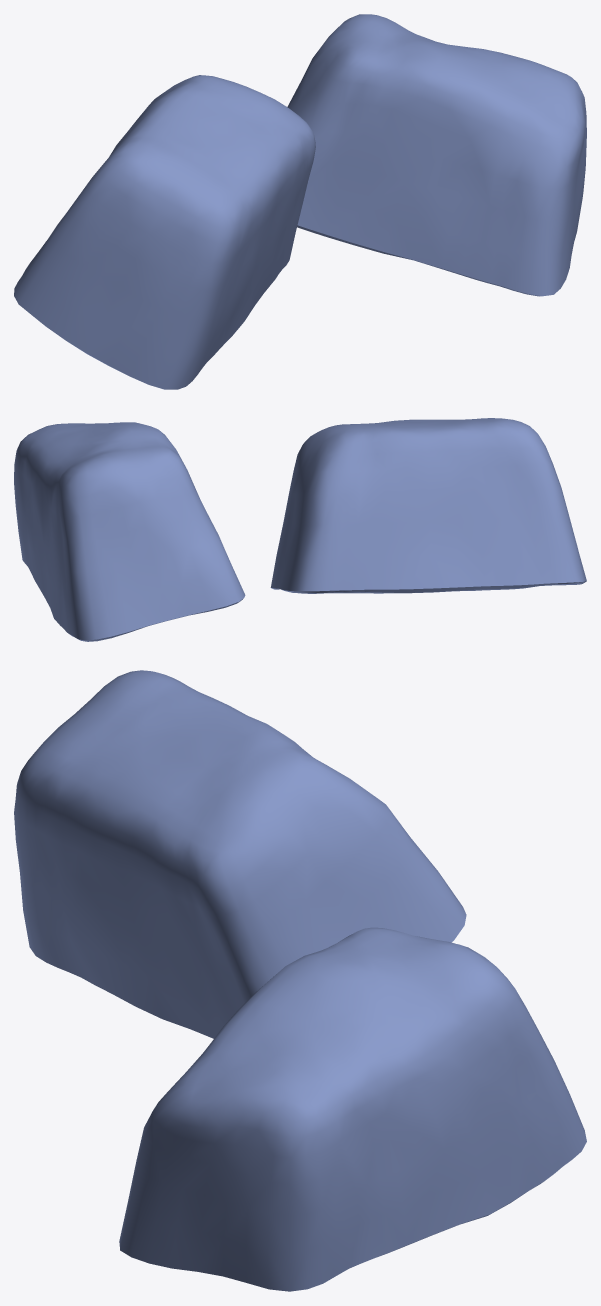
The model's file is Ice.fbx.
3 views of the same model, one above another, from view 1: azimuth 30°, elevation 25°; view 2: azimuth 150°, elevation 25°; view 3: azimuth 270°, elevation 25° (orthographic). The views are drawn at different scales.
Parts seen in each view (by area): view 1: Ice Cube Tray.001 1; view 2: Ice Cube Tray.001 1; view 3: Ice Cube Tray.001 1.
Part boxes in pixels (x1,y1,x2,y2): Ice Cube Tray.001 1: (14, 14, 586, 389); Ice Cube Tray.001 1: (14, 418, 586, 641); Ice Cube Tray.001 1: (14, 670, 586, 1291).
Bounding box in the file's own units: 30.62 × 19.13 × 11.72.
